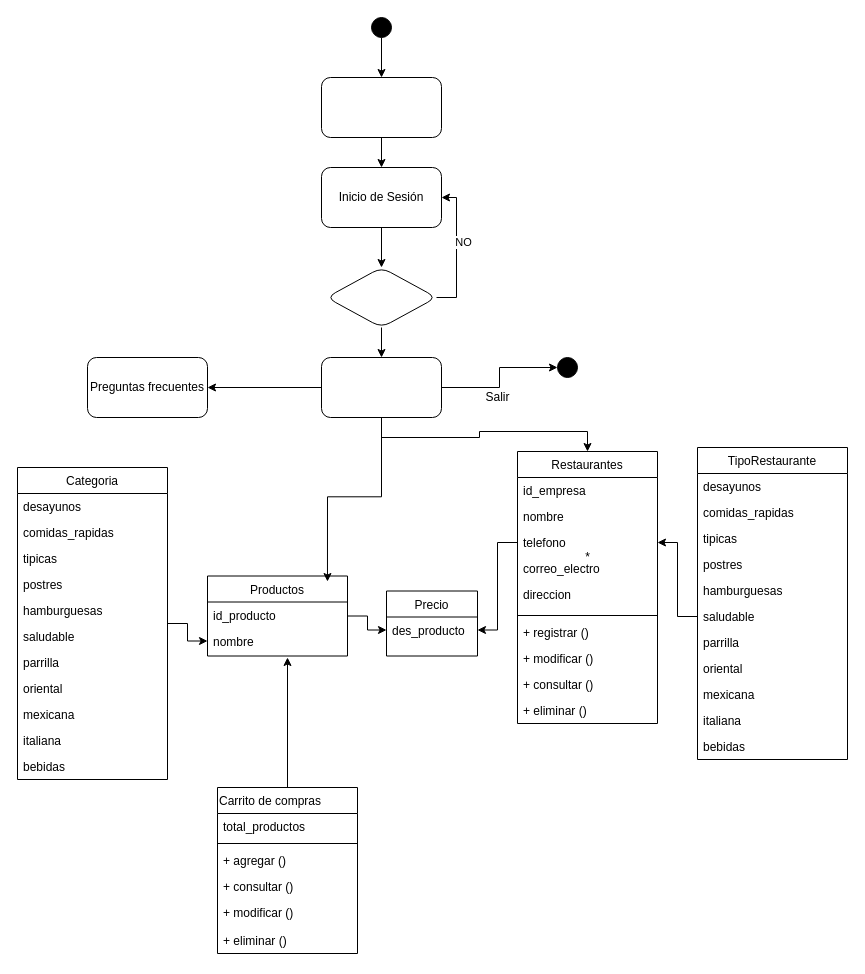
Some shapes in this 865 by 974 pixel diagram are drawn without their labels. The centre of each missing label's shape, as x and y in pixels:
"Condition" belongs at pixel 381 297.
"Ingresar a Página" belongs at pixel 381 107.
"Página de Inicio" belongs at pixel 381 387.
